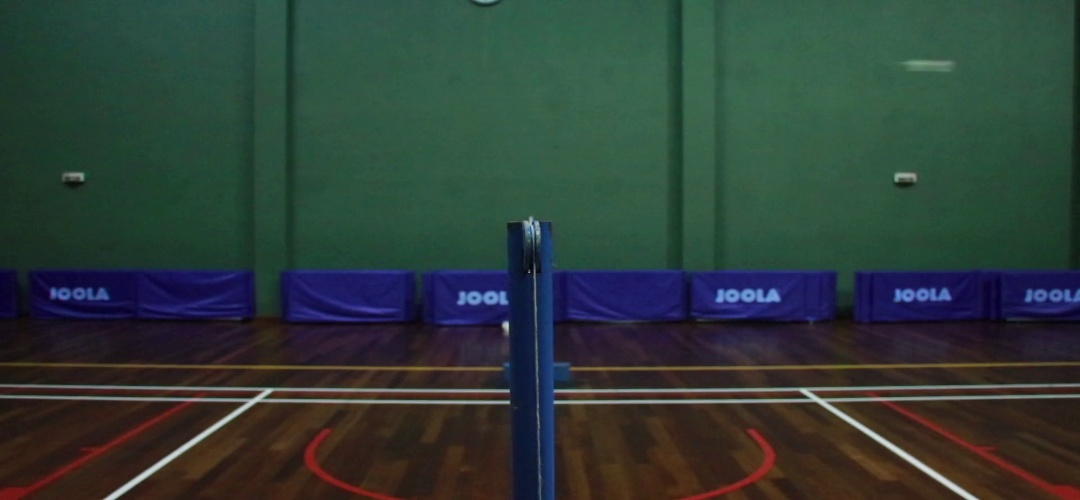c1: (240, 391, 274, 411)
c2: (797, 392, 844, 412)
net_level: (508, 222, 554, 288)
shuttle: (900, 56, 960, 77)
